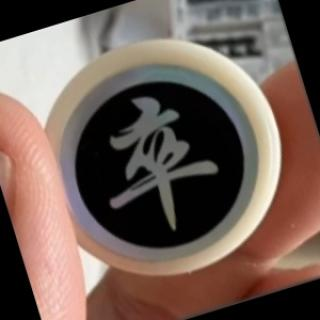qizi: (40, 40, 267, 279)
